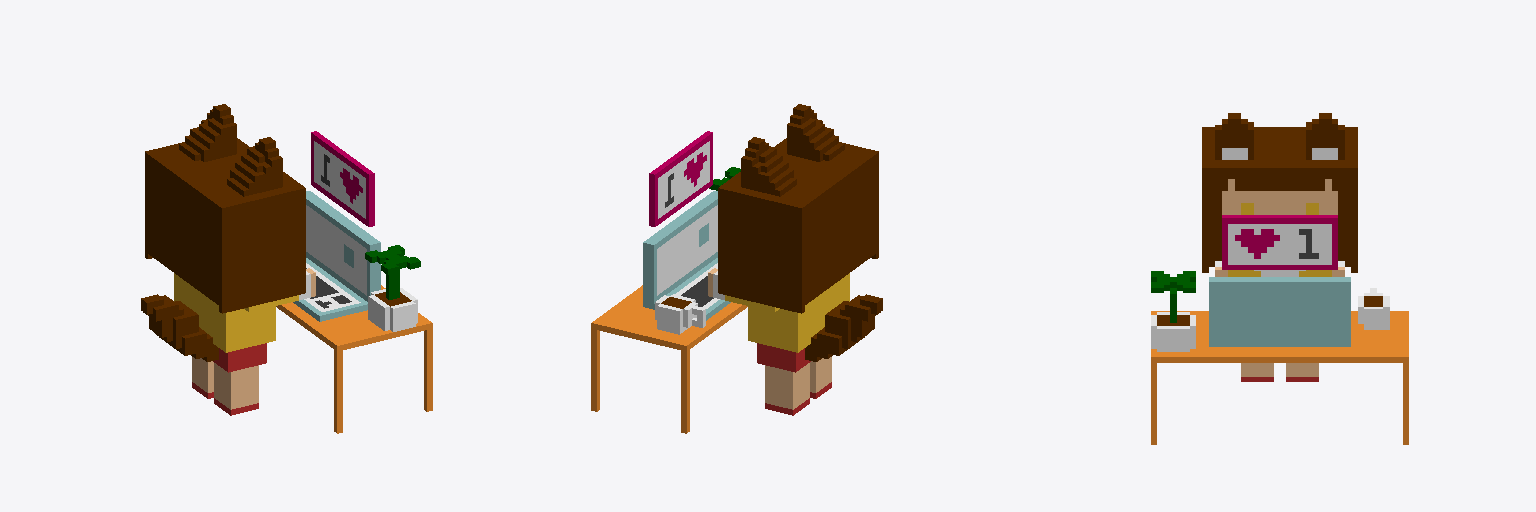
3 renders of one model, left to right at view 1: azimuth 30°, elevation 25°; view 2: azimuth 150°, elevation 25°; view 3: azimuth 270°, elevation 25°, orthographic.
Visible parts, largest first — view 1: object 1; view 2: object 1; view 3: object 1.
Boxes of the visible parts, x1,y1,x2,y2 form: object 1: [141, 104, 432, 433]; object 1: [591, 104, 882, 433]; object 1: [1151, 113, 1408, 444].
Size of the model in its own units: 4 by 4.6 by 4.
Materials: 1 (1 with a texture image).